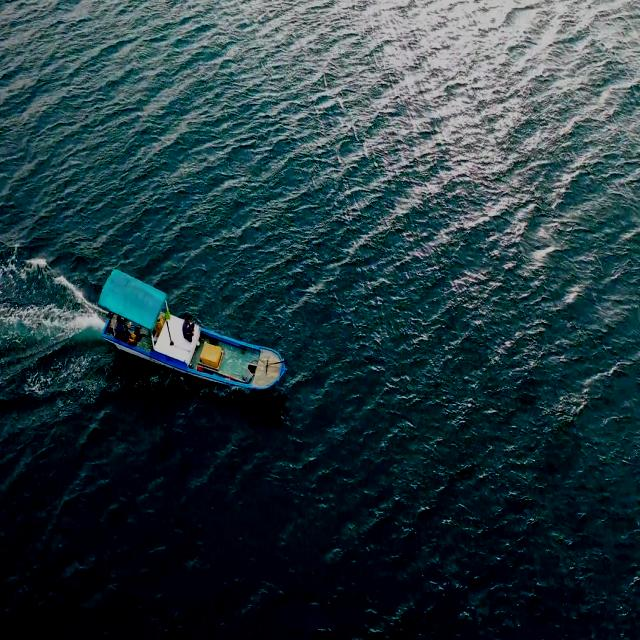ship: (97, 266, 294, 397)
